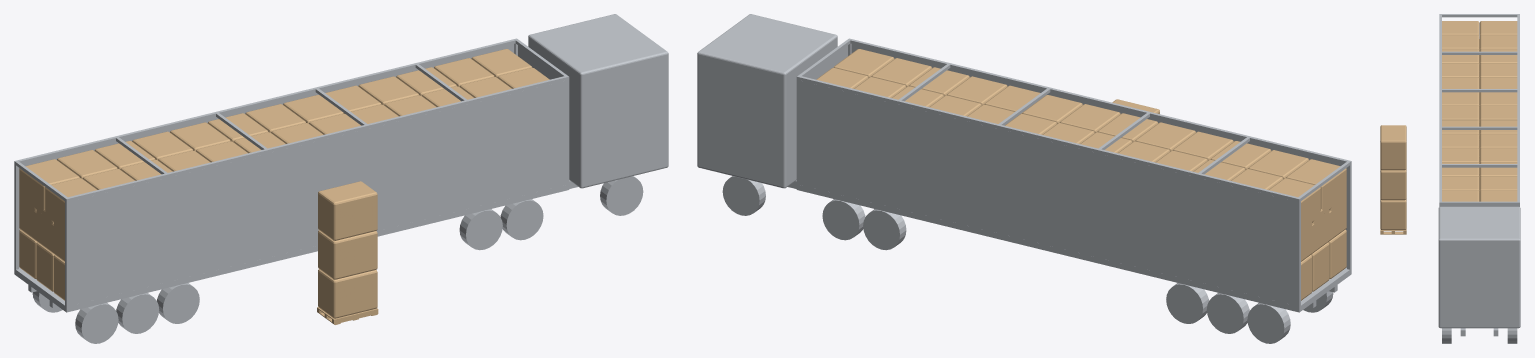
File: truck-loading.glb
The picture shows the model from 3 angles, left to right: view 1: azimuth 30°, elevation 25°; view 2: azimuth 150°, elevation 25°; view 3: azimuth 270°, elevation 25°; orthographic projection. The views are drawn at different scales.
Visible parts, largest first — view 1: trailer-walls, Cab, trailer, s4-box-03, s4-box-01, s4-box-02, s5-box-28, wheel-11, wheel-05, wheel-03, wheel-07, wheel-09 (+30 smaller); view 2: trailer-walls, Cab, trailer, s5-box-27, wheel-12, wheel-06, wheel-04, wheel-08, wheel-10, wheel-02, s5-box-28, s6-box-03 (+27 smaller); view 3: Cab, trailer, s4-box-03, s4-box-02, s4-box-01, s6-box-14, s5-box-28, s5-box-30, s6-box-02, s6-box-12, s6-box-18, s6-box-01 (+23 smaller).
Part boxes in pixels (bbox=[...]): trailer-walls: bbox=[14, 44, 569, 305]; Cab: bbox=[528, 14, 668, 188]; trailer: bbox=[14, 38, 569, 312]; s4-box-03: bbox=[318, 181, 377, 240]; s4-box-01: bbox=[318, 269, 377, 318]; s4-box-02: bbox=[318, 230, 377, 279]; s5-box-28: bbox=[19, 159, 79, 213]; wheel-11: bbox=[75, 303, 118, 343]; wheel-05: bbox=[459, 209, 502, 250]; wheel-03: bbox=[500, 199, 543, 240]; wheel-07: bbox=[157, 283, 199, 323]; wheel-09: bbox=[116, 293, 159, 333]; trailer-walls: bbox=[796, 44, 1351, 306]; Cab: bbox=[697, 14, 837, 188]; trailer: bbox=[796, 38, 1351, 312]; s5-box-27: bbox=[1286, 159, 1346, 213]; wheel-12: bbox=[1247, 303, 1290, 343]; wheel-06: bbox=[863, 209, 906, 250]; wheel-04: bbox=[822, 199, 865, 240]; wheel-08: bbox=[1166, 283, 1208, 323]; wheel-10: bbox=[1206, 293, 1249, 333]; wheel-02: bbox=[722, 176, 765, 215]; s5-box-28: bbox=[1269, 178, 1320, 229]; s6-box-03: bbox=[1135, 122, 1195, 151]; Cab: bbox=[1438, 206, 1520, 328]; trailer: bbox=[1439, 14, 1519, 206]; s4-box-03: bbox=[1380, 125, 1406, 170]; s4-box-02: bbox=[1380, 169, 1406, 200]; s4-box-01: bbox=[1380, 199, 1406, 229]; s6-box-14: bbox=[1479, 148, 1517, 163]; s5-box-28: bbox=[1479, 21, 1517, 36]; s5-box-30: bbox=[1479, 35, 1517, 50]; s6-box-02: bbox=[1479, 63, 1517, 78]; s6-box-12: bbox=[1479, 134, 1517, 149]; s6-box-18: bbox=[1479, 176, 1517, 191]; s6-box-01: bbox=[1442, 63, 1479, 78].
Size of the model in its own units: 16.3 by 4 by 4.28.
